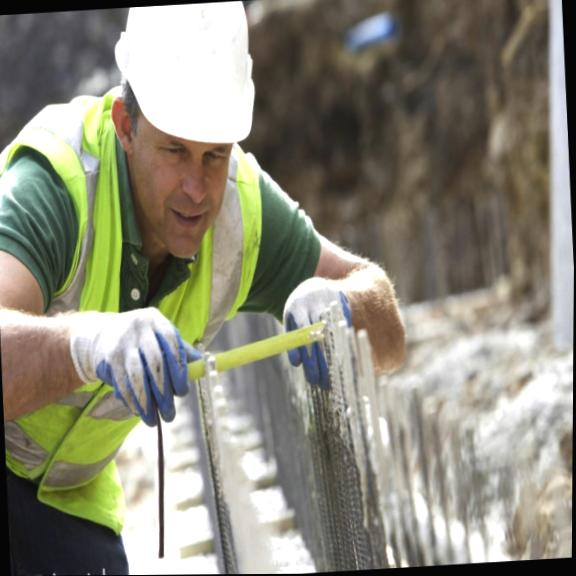safety_vest: (0, 79, 276, 520)
